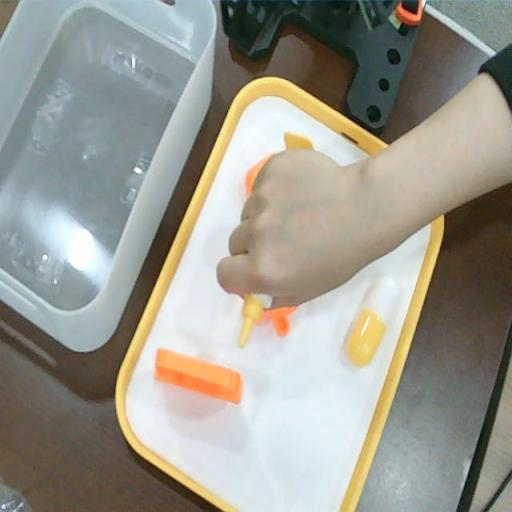hospital: (217, 146, 370, 304)
